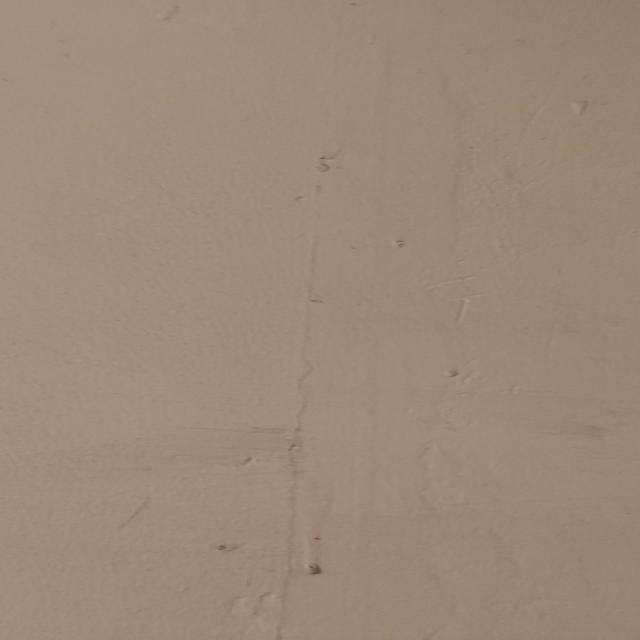Crack: (278, 126, 322, 634)
